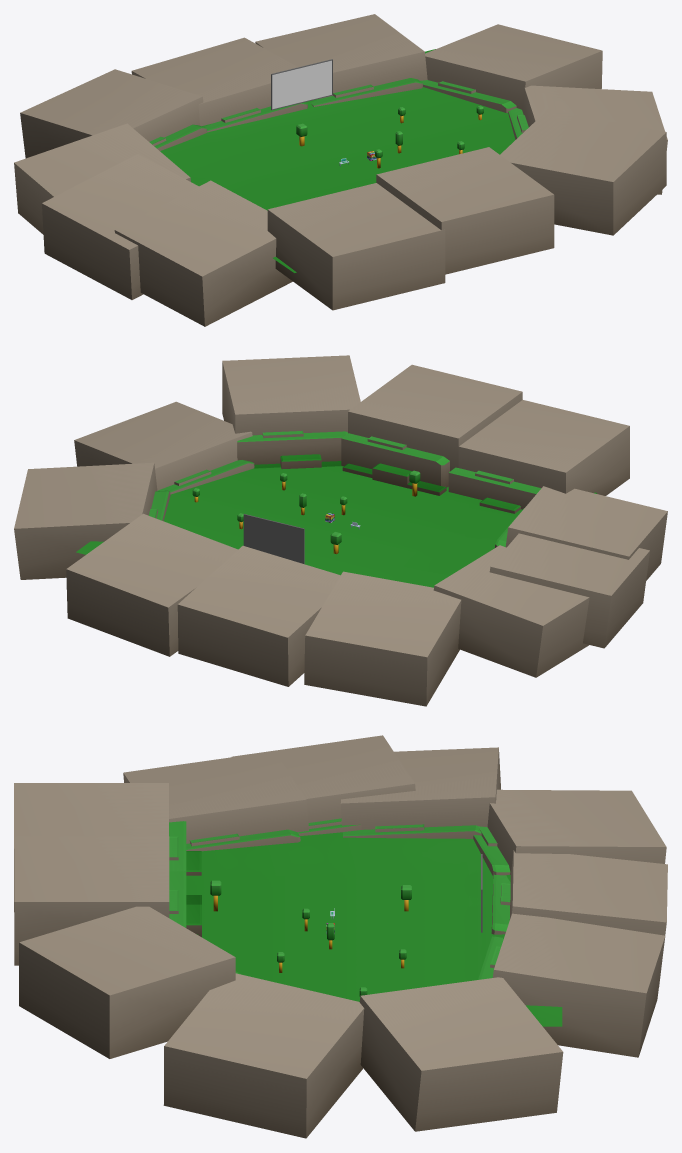
The model's file is screen.glb.
The picture shows the model from 3 angles, top to bottom: view 1: azimuth 30°, elevation 25°; view 2: azimuth 150°, elevation 25°; view 3: azimuth 270°, elevation 25°; orthographic projection. The views are drawn at different scales.
Parts seen in each view (by area): view 1: Terrain, GroundAndTrees, TV; view 2: Terrain, GroundAndTrees, TV; view 3: Terrain, GroundAndTrees.
Boxes of the visible parts, x1,y1,x2,y2 form: Terrain: (14,14,667,326); GroundAndTrees: (160,49,515,272); TV: (271,59,332,110); Terrain: (14,355,667,706); GroundAndTrees: (76,466,596,587); TV: (243,514,304,563); Terrain: (14,735,667,1138); GroundAndTrees: (186,832,562,1026).
Bounding box in the file's own units: 192 × 29.74 × 158.
3 materials, 1 textured.
